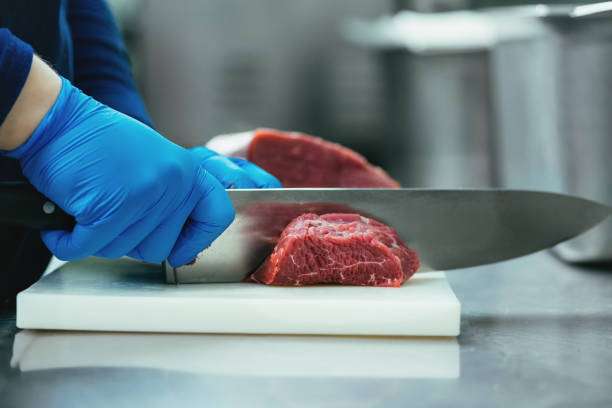knife: (160, 186, 610, 288)
